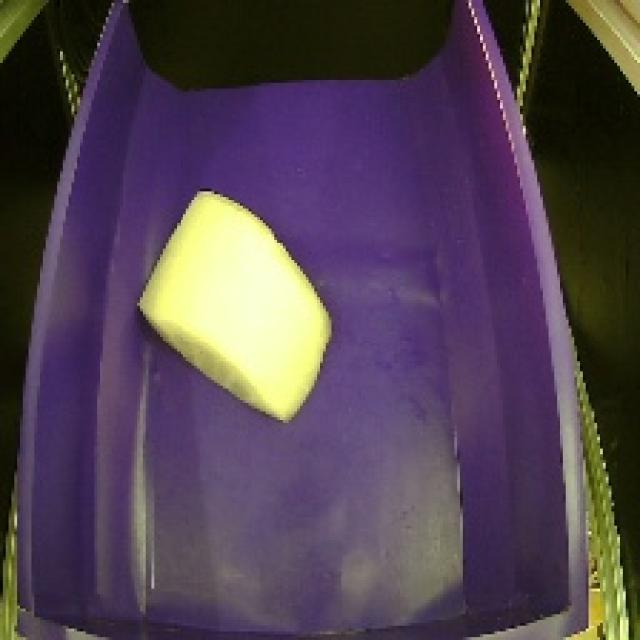white_radish: (131, 177, 355, 430)
